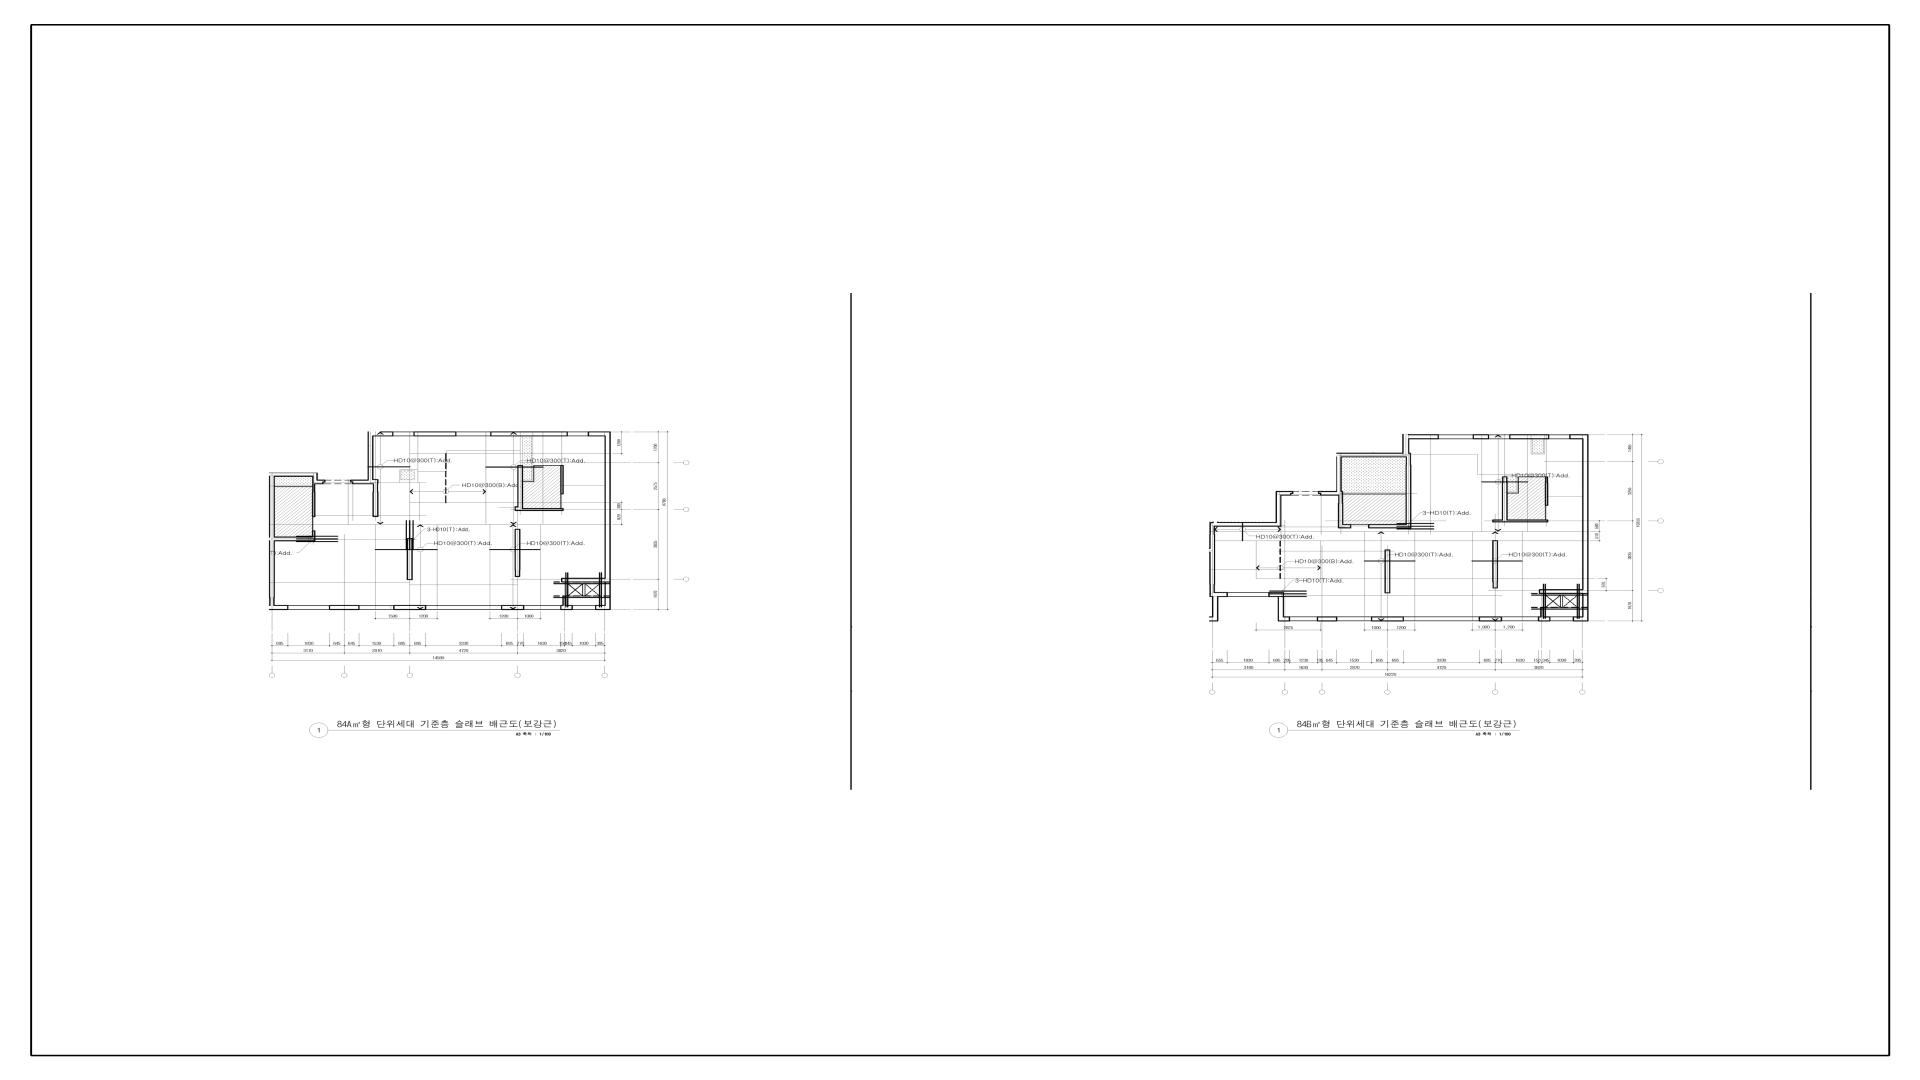wall: (1582, 439, 1589, 589), (605, 436, 611, 578), (491, 431, 568, 436), (1342, 452, 1411, 458), (269, 473, 274, 537), (406, 538, 414, 580), (1406, 465, 1411, 525), (269, 542, 274, 597), (514, 529, 521, 571), (517, 465, 524, 506), (562, 578, 611, 583), (1336, 452, 1342, 491), (1218, 522, 1276, 526), (1385, 550, 1390, 593), (414, 431, 456, 436), (368, 436, 373, 479), (1369, 524, 1411, 529), (274, 537, 315, 542), (1493, 541, 1498, 582), (1510, 434, 1549, 439), (1502, 483, 1507, 522), (1275, 496, 1282, 526), (1539, 589, 1589, 593), (393, 605, 426, 611), (1209, 553, 1215, 585), (330, 605, 360, 611), (524, 508, 563, 512), (1410, 434, 1439, 439), (274, 473, 313, 477), (604, 583, 611, 605), (1582, 593, 1589, 616), (1402, 434, 1410, 452), (368, 431, 393, 436), (373, 492, 378, 517), (1371, 617, 1404, 621), (1278, 597, 1284, 617), (501, 605, 525, 611), (1212, 597, 1218, 616), (588, 431, 611, 436), (560, 465, 564, 495), (1209, 522, 1218, 534), (1507, 520, 1548, 522), (269, 605, 289, 611), (1569, 434, 1589, 439), (1338, 504, 1344, 524), (1209, 592, 1228, 597), (1275, 491, 1294, 496), (1478, 617, 1502, 621), (1319, 491, 1336, 496), (595, 605, 611, 611), (1473, 434, 1489, 439), (1573, 616, 1589, 621), (1269, 592, 1284, 597), (1317, 617, 1337, 621), (1209, 534, 1215, 549), (1338, 524, 1352, 529), (351, 480, 368, 484), (313, 492, 315, 517), (560, 605, 572, 611), (1278, 616, 1290, 621), (1545, 483, 1548, 506), (368, 479, 378, 484), (313, 480, 326, 484), (1538, 617, 1551, 621), (514, 506, 524, 512), (1209, 616, 1218, 621), (514, 571, 521, 578), (269, 597, 274, 605), (373, 484, 378, 492), (1209, 584, 1215, 592), (1336, 491, 1344, 496), (1338, 496, 1344, 504), (1406, 458, 1411, 465), (313, 473, 318, 480), (1493, 582, 1498, 588), (1502, 476, 1507, 483), (269, 537, 274, 542), (1540, 607, 1543, 617), (563, 596, 566, 605), (1493, 520, 1502, 522), (313, 484, 315, 492), (1209, 549, 1215, 553), (313, 530, 315, 537), (1545, 476, 1548, 483)
